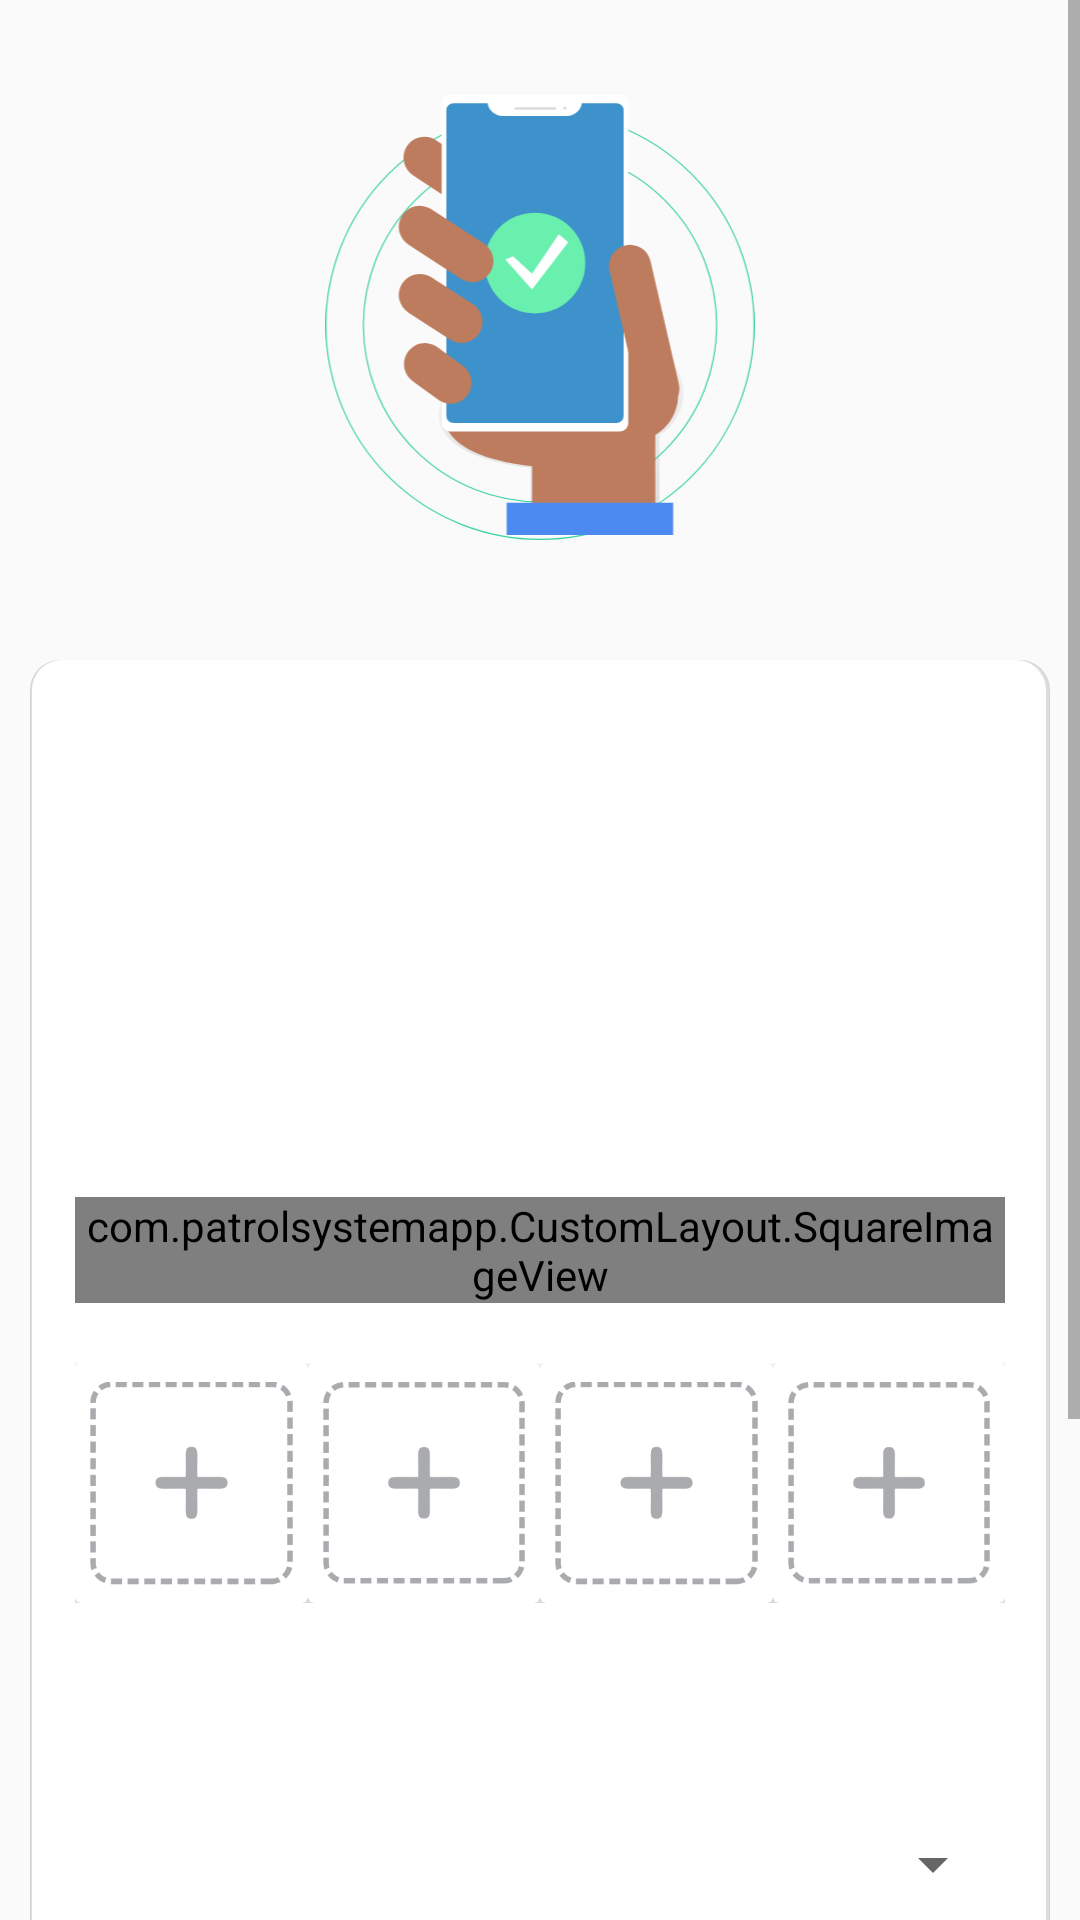

Where to tap for icons on this 1080 × 1920 app screen, as [x,y]:
add: [191,1483], [424,1483], [656,1483], [889,1483]
